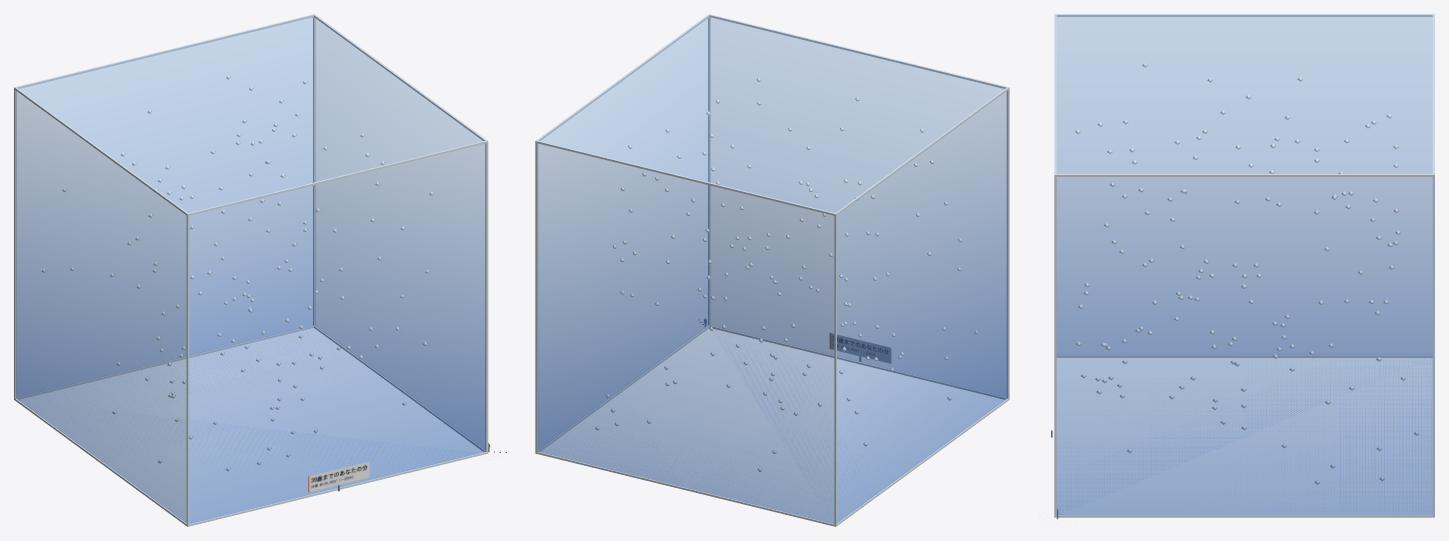
Rendered from cube_life_39.glb.
The picture shows the model from 3 angles, left to right: view 1: azimuth 30°, elevation 25°; view 2: azimuth 150°, elevation 25°; view 3: azimuth 270°, elevation 25°; orthographic projection. The views are drawn at different scales.
Parts seen in each view (by area): view 1: co2, edge, dots, label; view 2: co2, edge, dots, label; view 3: co2, edge, dots.
Part boxes in pixels (x1,y1,x2,y2): co2: [16, 15, 485, 523]; edge: [14, 14, 488, 526]; dots: [41, 75, 433, 471]; label: [308, 461, 369, 492]; co2: [538, 15, 1007, 523]; edge: [535, 14, 1009, 526]; dots: [595, 77, 978, 471]; label: [830, 333, 890, 363]; co2: [1056, 15, 1432, 514]; edge: [1054, 14, 1434, 517]; dots: [1075, 63, 1419, 484].
Bounding box in the file's own units: 61.92 × 58.18 × 61.02.
8 materials, 3 textured.
